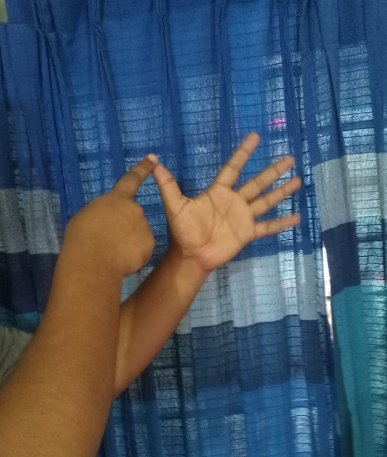a: (110, 131, 303, 251)
